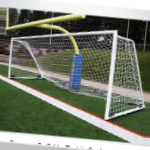goals: (6, 28, 146, 119)
